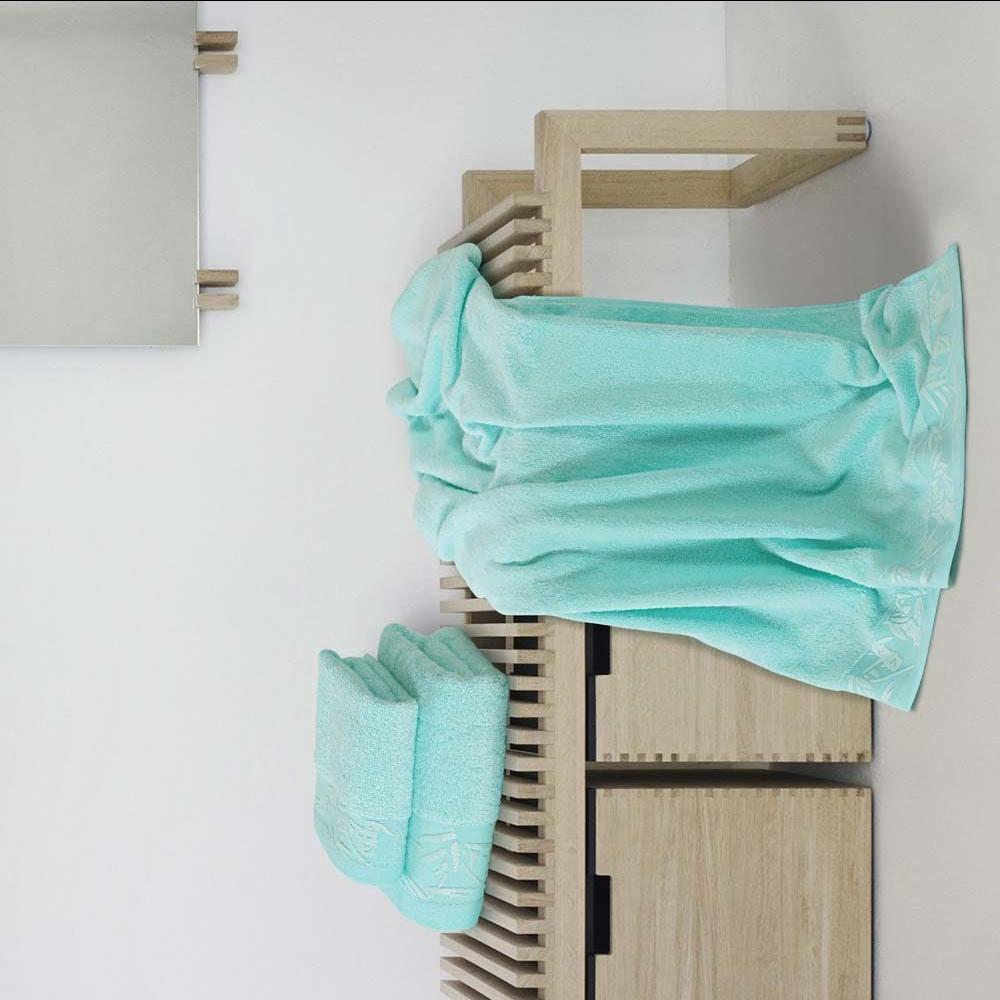towel: (387, 267, 1000, 630)
